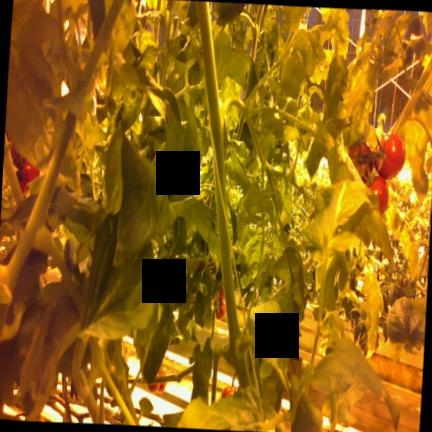MainStem: (196, 0, 252, 391), (386, 51, 432, 132)
tomato: (375, 133, 405, 179), (349, 142, 375, 181), (367, 176, 388, 213), (10, 146, 26, 170), (22, 161, 39, 182), (16, 170, 29, 195), (216, 288, 226, 319), (157, 367, 166, 393), (221, 386, 234, 397), (147, 383, 159, 392)
